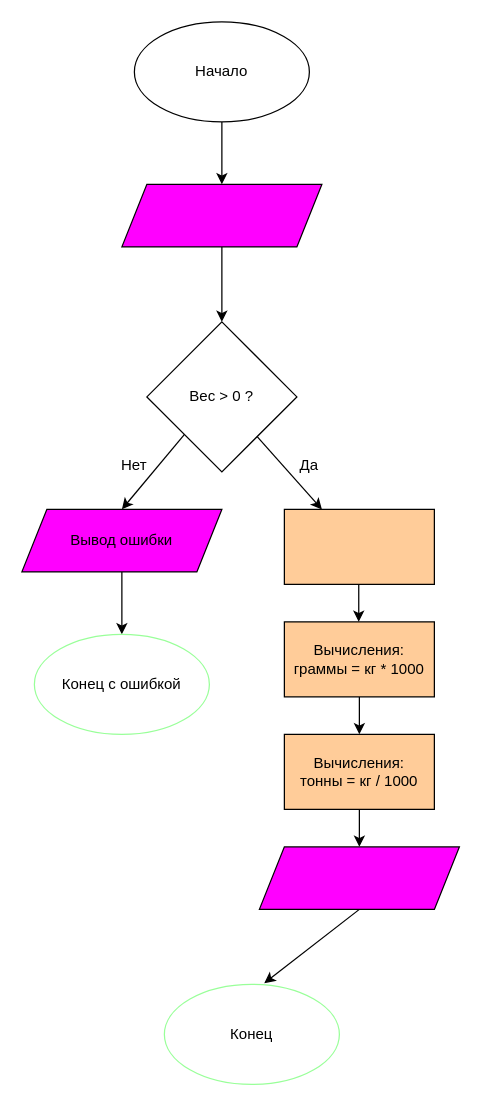
Image size: 481x1106. Some labels were removed from this diagram. The box of each missing label's shape, as (x1, y1, x2, y2) in pixels:
Ввод веса в фунтах: (121, 183, 322, 247)
Вывод результатов: (258, 846, 459, 909)
Вычисления: кг = фунты * 0,453592: (283, 508, 434, 584)
